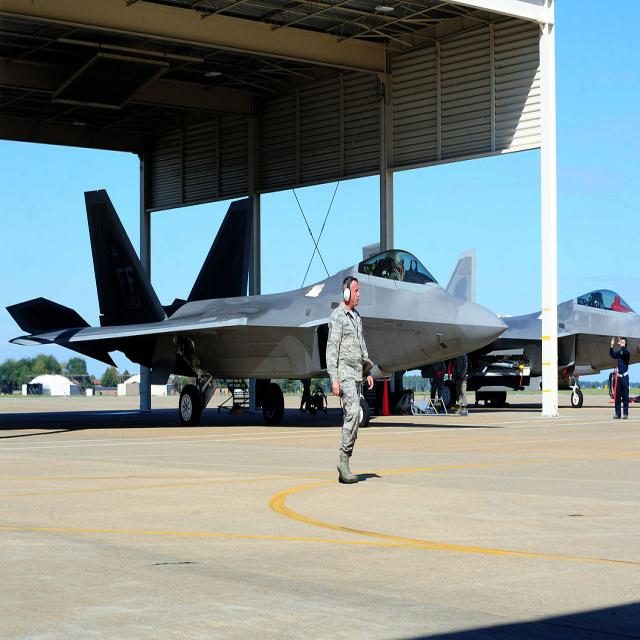MIL_Plane: (5, 190, 507, 429), (362, 241, 640, 410)
